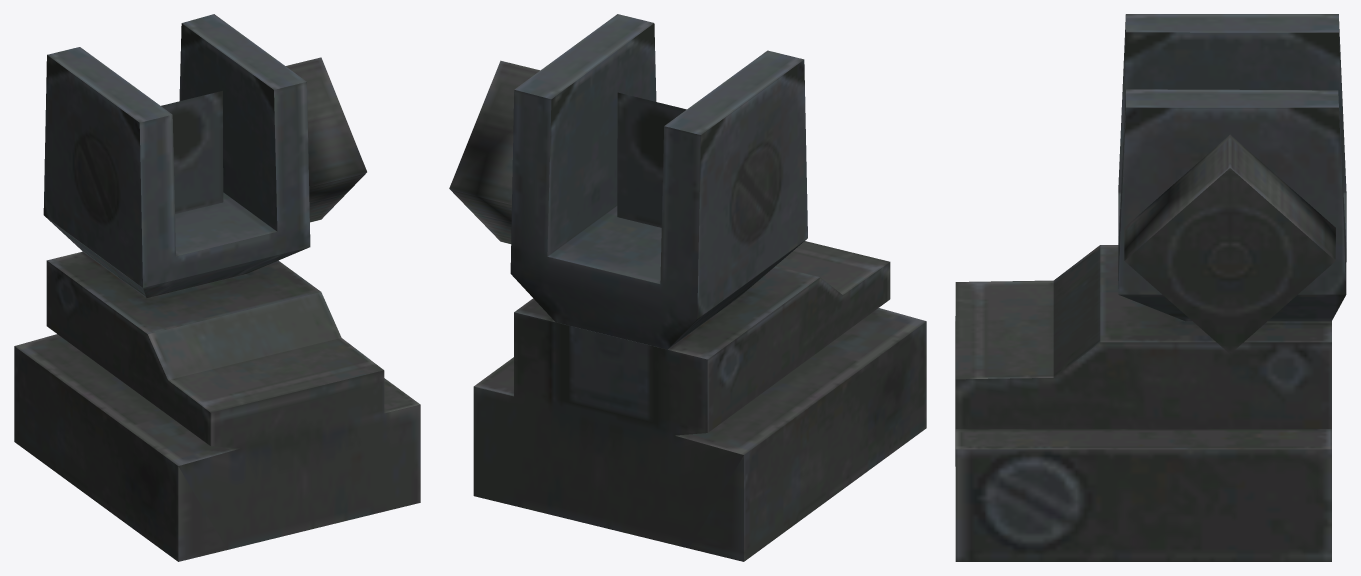
The model's file is Pickup_WeaponZj08.glb.
3 renders of one model, left to right at view 1: azimuth 30°, elevation 25°; view 2: azimuth 150°, elevation 25°; view 3: azimuth 270°, elevation 25°, orthographic. The views are drawn at different scales.
Visible parts, largest first — view 1: pk_weapon_zj08; view 2: pk_weapon_zj08; view 3: pk_weapon_zj08.
Part boxes in pixels (<box>): pk_weapon_zj08: <box>14,14,420,561</box>; pk_weapon_zj08: <box>449,14,926,561</box>; pk_weapon_zj08: <box>955,14,1346,561</box>.
Bounding box in the file's own units: 0.0694 × 0.095 × 0.0779.
1 material, 1 textured.
